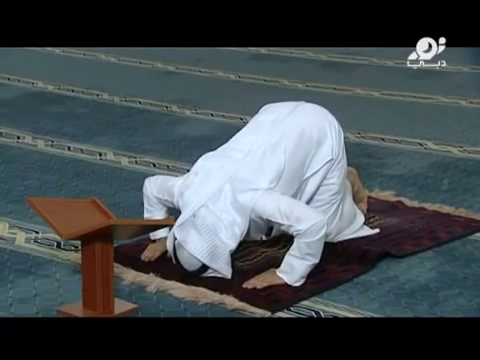sujud: (141, 99, 373, 292)
